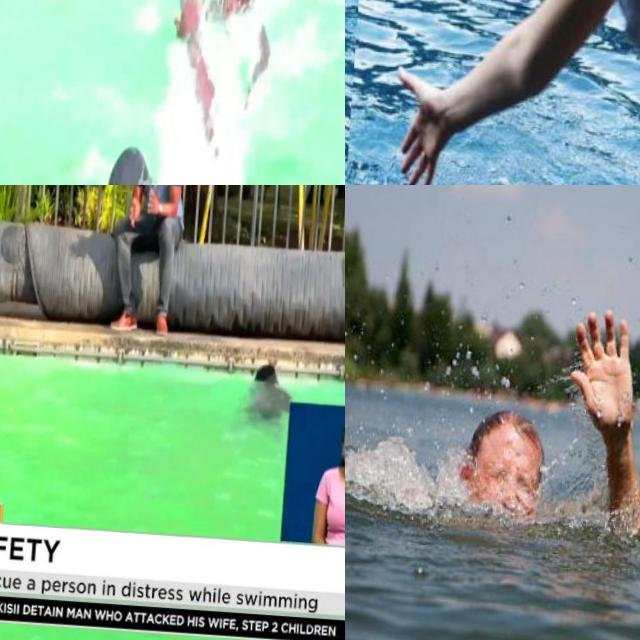drowning: (345, 265, 640, 549), (90, 118, 191, 185)
out of water: (114, 185, 210, 342)
swimming: (182, 0, 281, 71), (238, 354, 296, 429)
